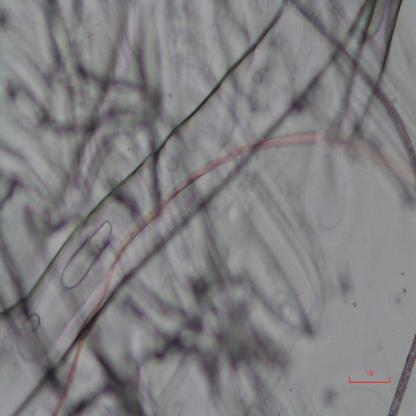Background material: (0, 2, 168, 202), (149, 236, 303, 410), (159, 5, 314, 171), (0, 203, 126, 354), (216, 174, 323, 339), (82, 340, 165, 416), (353, 0, 409, 73), (335, 266, 358, 306), (314, 381, 343, 410)
Microfibre: (51, 129, 405, 416), (293, 0, 416, 178), (388, 333, 416, 416)
